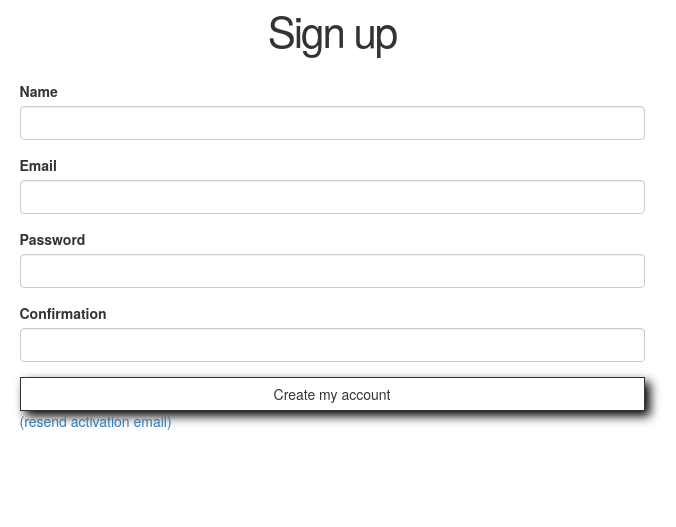
Signup Page › shows validation errors when submitting empty form
Click the button "Create my account".
click(332, 394)  # box [20,377,644,411]
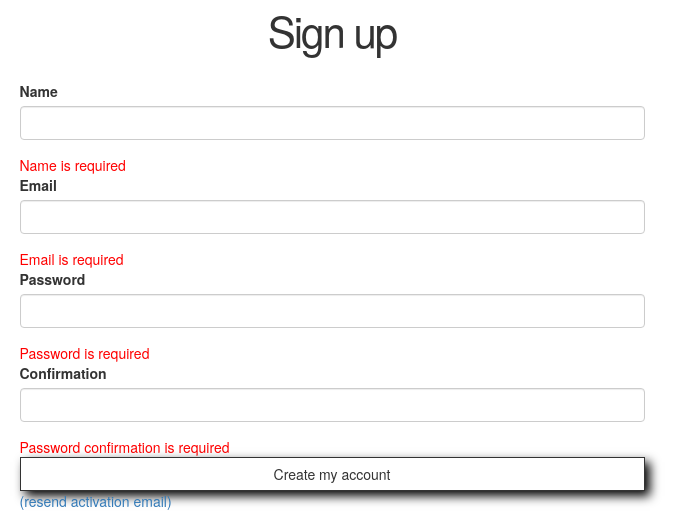
Expected: the text "Name is required" is shown, [20,155,126,175]
Expected: the text "Email is required" is shown, [20,249,124,269]
Expected: the text "Password is required" is shown, [20,343,149,363]
